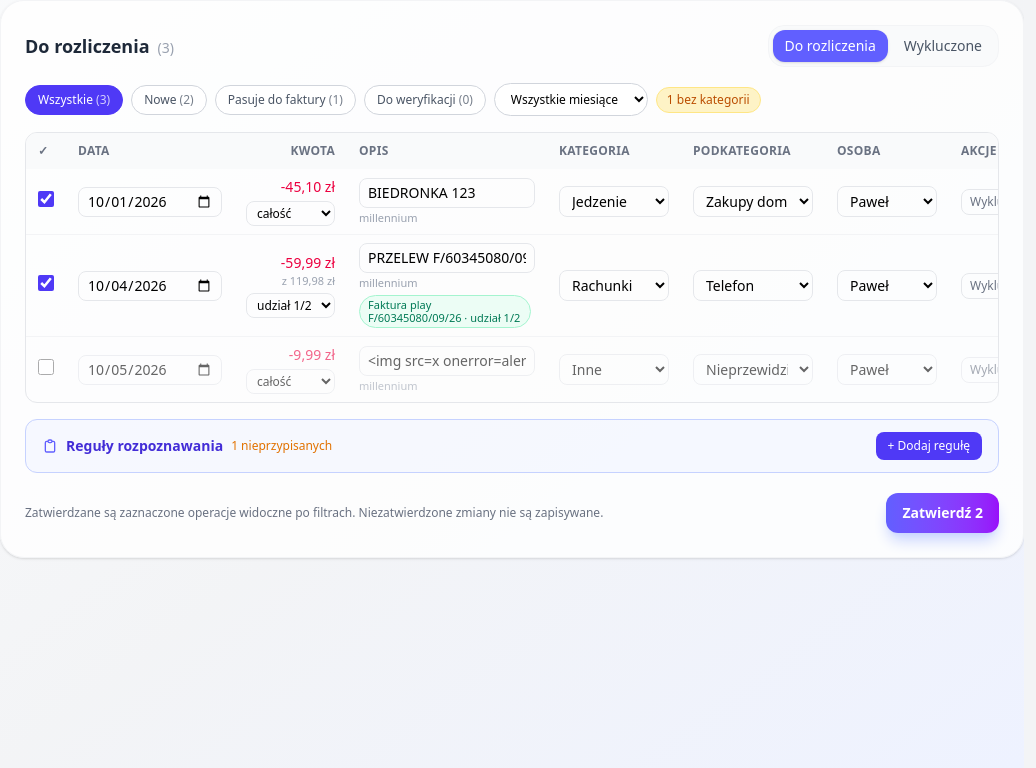
Test: Kolejka — zatwierdzanie › zgłasza niezatwierdzone zmiany do rodzica
Expected: the tab "Wszystkie (3)" is shown, [25, 84, 123, 114]
Step 1. Select "Jedzenie" in the dropdown named "Kategoria" in the row of "-9,99" → (614,370), box [559, 354, 669, 385]
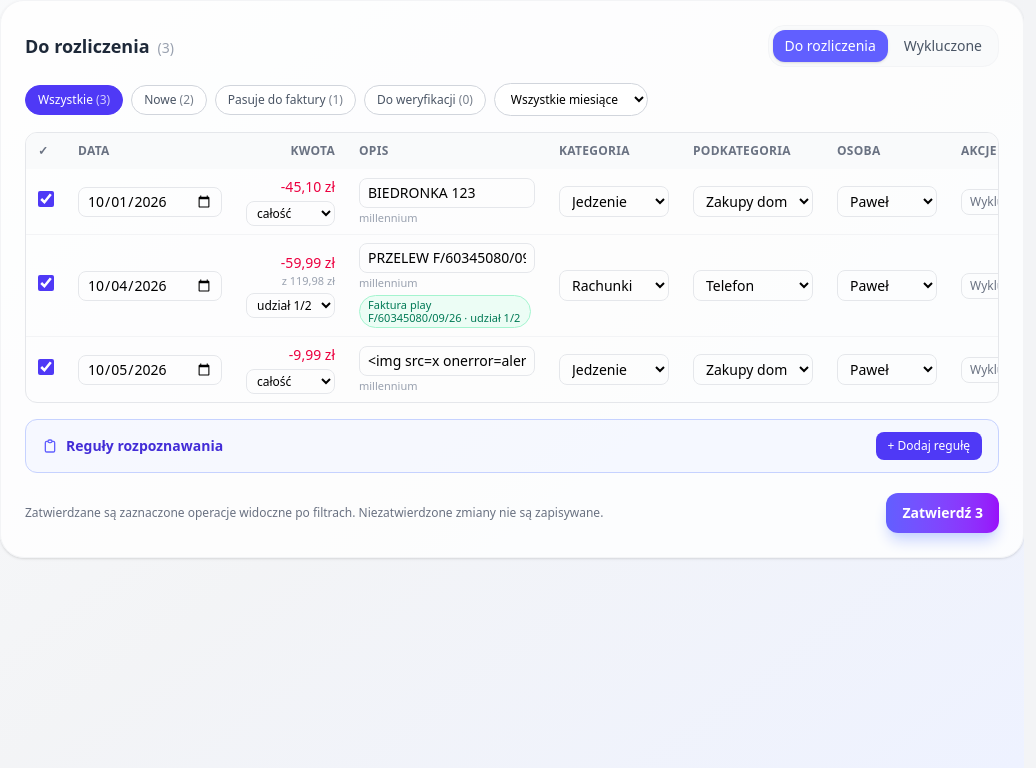
Now the checkbox named "XYZ" is checked, box [38, 359, 54, 375]
